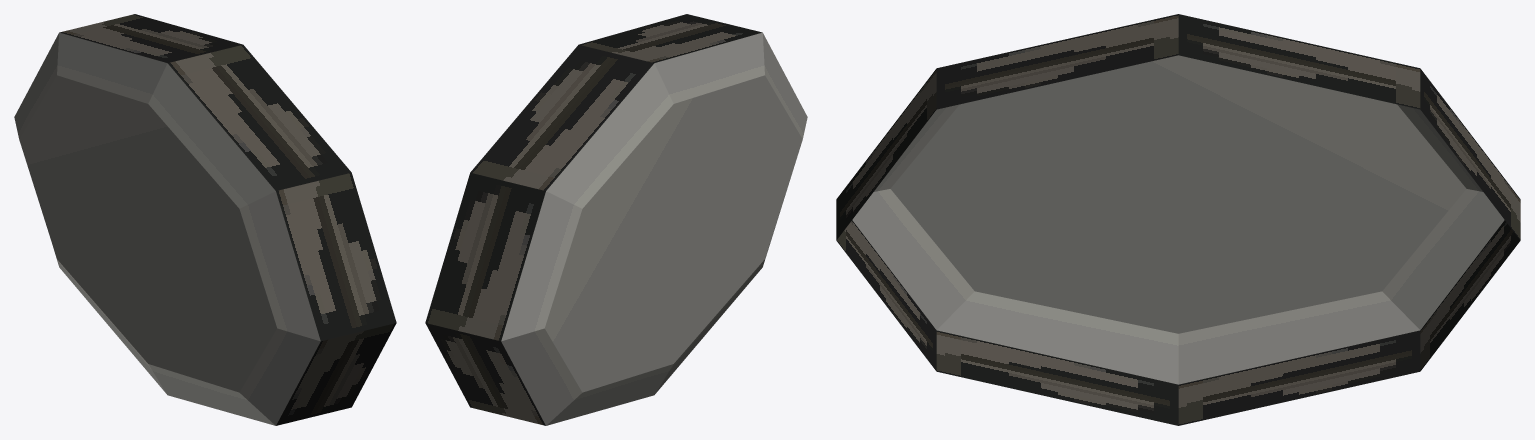
Rendered from pz_native_lighting_outdoor_01_44_wall_lamp.obj.
The picture shows the model from 3 angles, left to right: view 1: azimuth 30°, elevation 25°; view 2: azimuth 150°, elevation 25°; view 3: azimuth 270°, elevation 25°; orthographic projection. The views are drawn at different scales.
Parts seen in each view (by area): view 1: pz_native_lighting_outdoor_01_44_wall_lamp; view 2: pz_native_lighting_outdoor_01_44_wall_lamp; view 3: pz_native_lighting_outdoor_01_44_wall_lamp.
Part boxes in pixels (x1,y1,x2,y2): pz_native_lighting_outdoor_01_44_wall_lamp: (14,14,396,425); pz_native_lighting_outdoor_01_44_wall_lamp: (425,14,807,425); pz_native_lighting_outdoor_01_44_wall_lamp: (836,14,1520,425).
Bounding box in the file's own units: 0.0605 × 0.2018 × 0.3375.
Materials: 1 (1 with a texture image).
